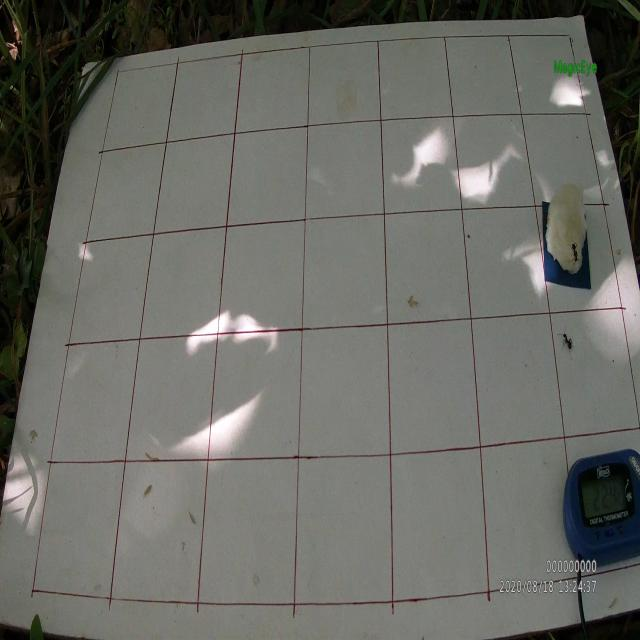Ant: (556, 325, 575, 361), (567, 236, 580, 265)
